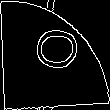O_W: (29, 33, 81, 77)
